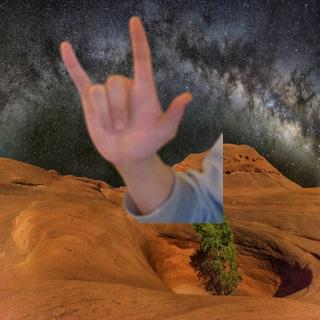ILY: (53, 13, 196, 165)
